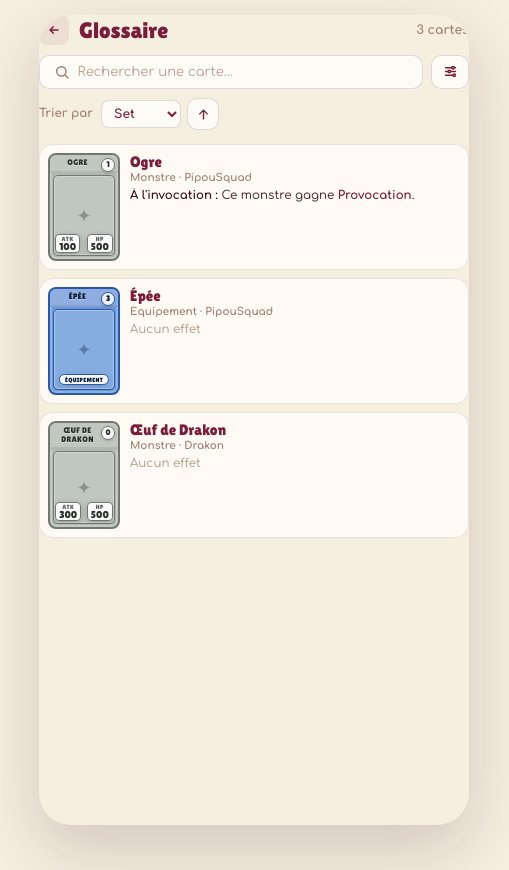
Test case: CardGlossary › filtre par set, par type et par nom (sans accents)
The width and height of the screenshot is (509, 870).
Expected: the button with aria-label "Voir Ogre" is shown, [39, 144, 469, 270]
Click the button named "Filtres" at (450, 72), box [431, 55, 469, 89]
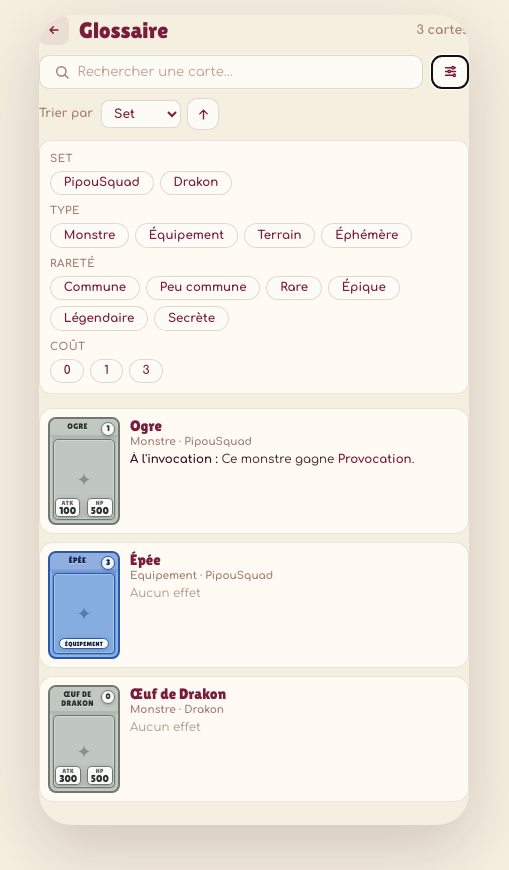
Click the button "Drakon" at (196, 183), box [160, 171, 232, 195]
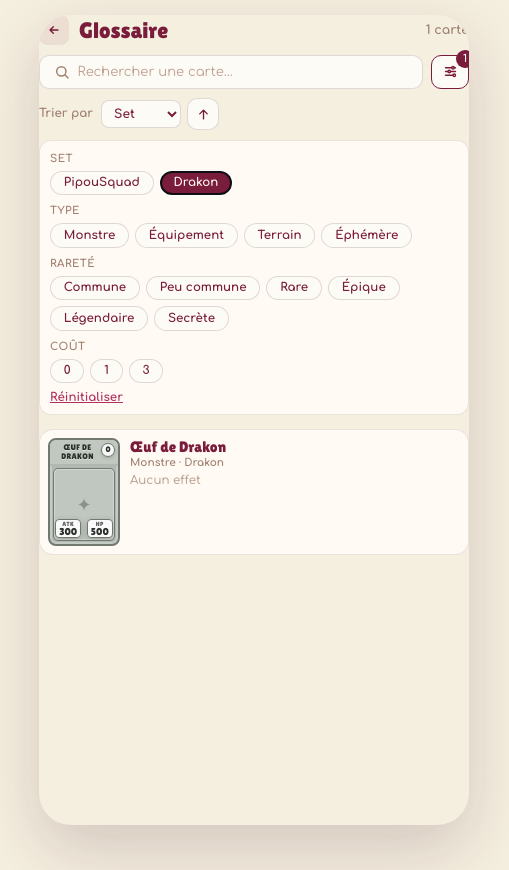
Result: the number of buttons named "Voir " is 1 at [39, 429, 469, 555]
Click the button "Drakon" at (196, 183), box [160, 171, 232, 195]
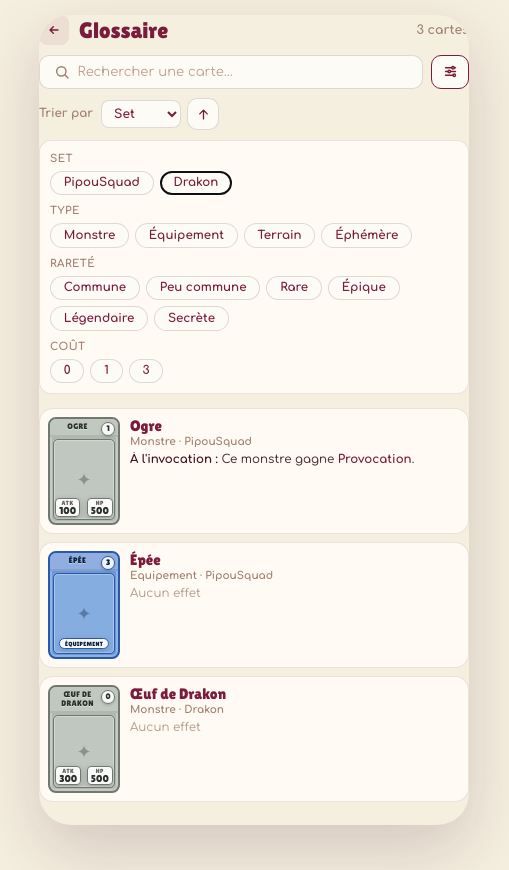
Click the button "Équipement" at (186, 235), box [135, 223, 238, 248]
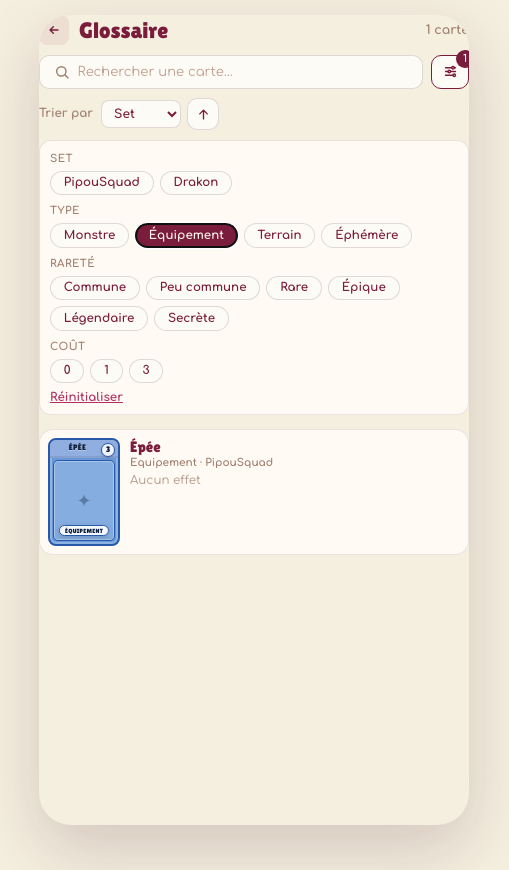
Result: the number of buttons named "Voir " is 1 at [39, 429, 469, 555]
Click the button "Équipement" at (186, 235), box [135, 223, 238, 248]
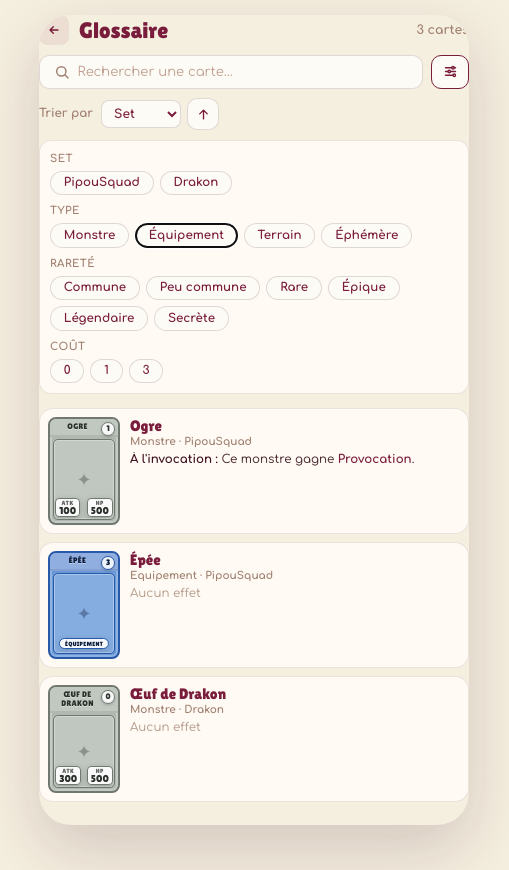
Type "oeuf" into the search field at (243, 72), box [78, 64, 408, 79]
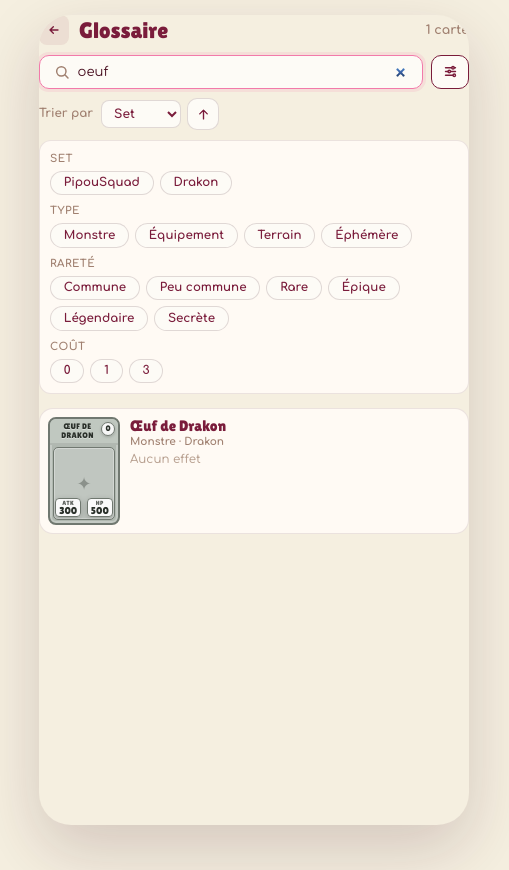
Result: the number of buttons named "Voir " is 1 at [39, 408, 469, 534]
